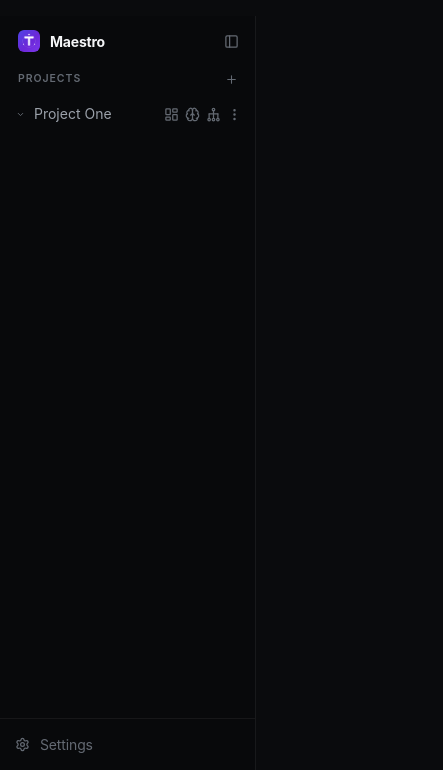
Test case: Sidebar › opens global settings from the footer menu when no project is selected
The image size is (443, 770).
Click the button named "project actions" at (234, 114), box [224, 104, 244, 124]
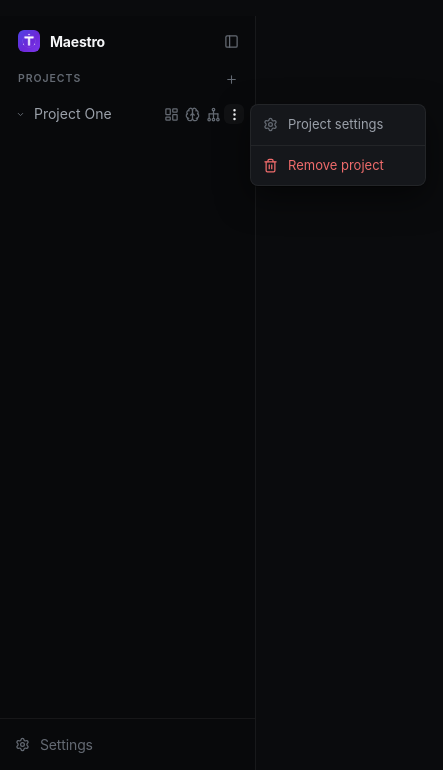
Check: the menu item "Project settings" is shown, box [263, 116, 384, 132]
